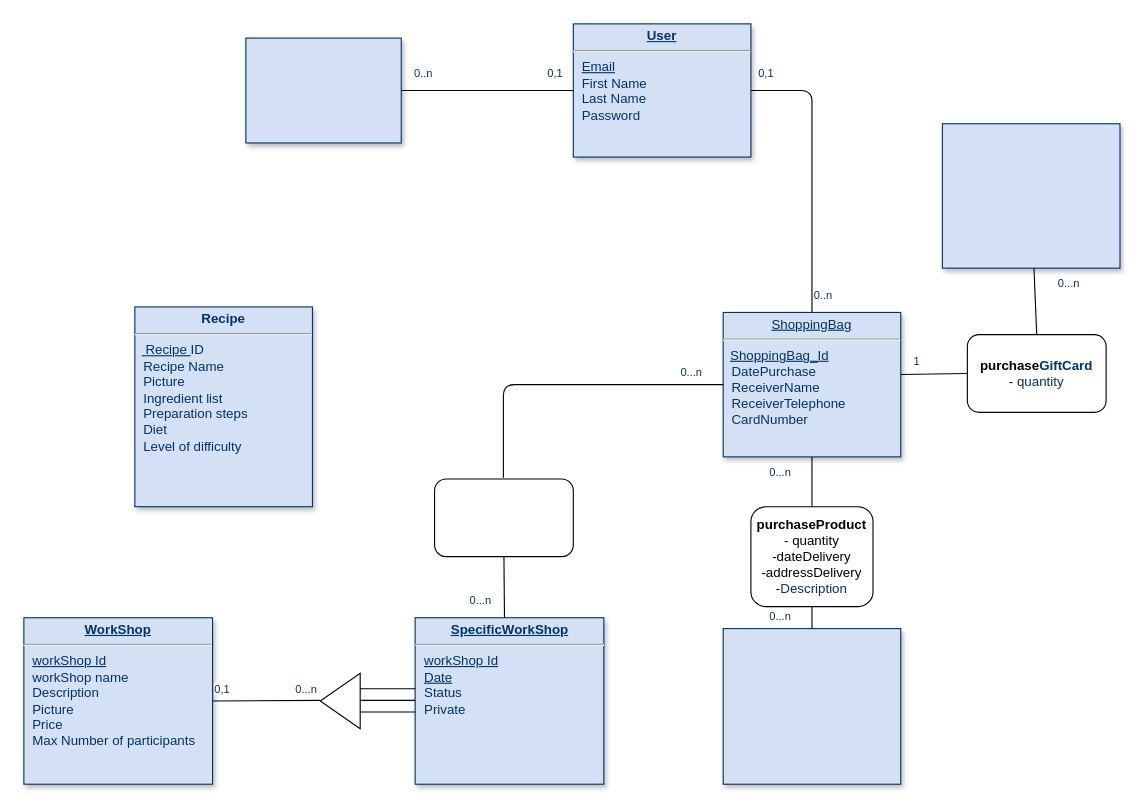
This 1147x811 diagram has some shape labels left out. The shapes that lost their labels are listed below. From the top down, each one's centre as x and y in pixels, then its label:
At point (324, 92): "ContactUs I d Telephone DateContact Description".
At point (1032, 197): "GiftCard GiftCard_Id Amount Description ReceiverName ReceiverTelephone".
At point (503, 517): "purchase WorkShop - Number of participants".
At point (812, 707): "Product product_Id Category Price Picture Description".
